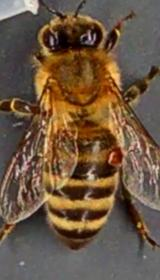varroa_mite: (100, 140, 134, 171)
